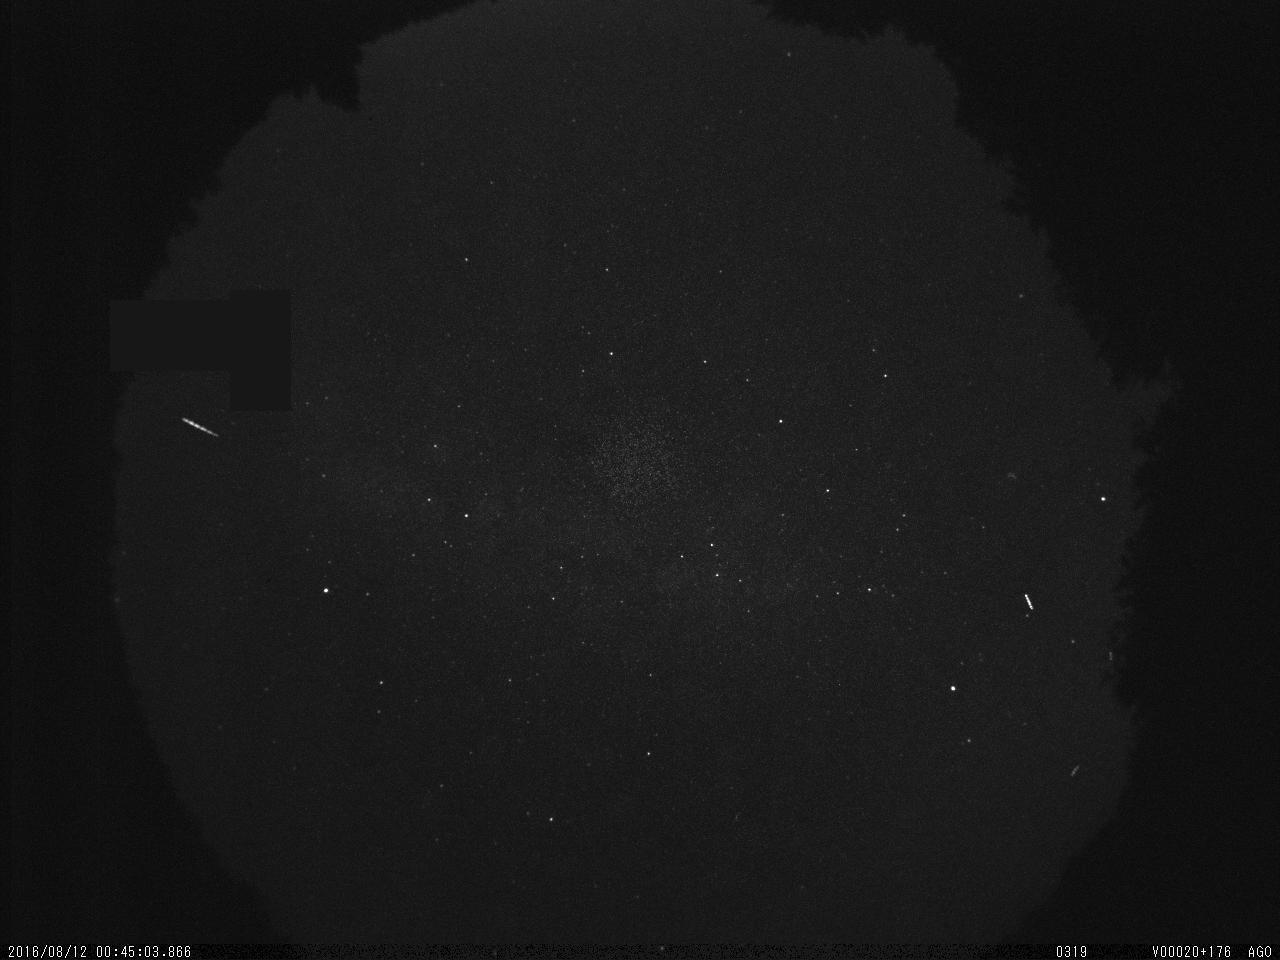meteor: (168, 410, 243, 452)
